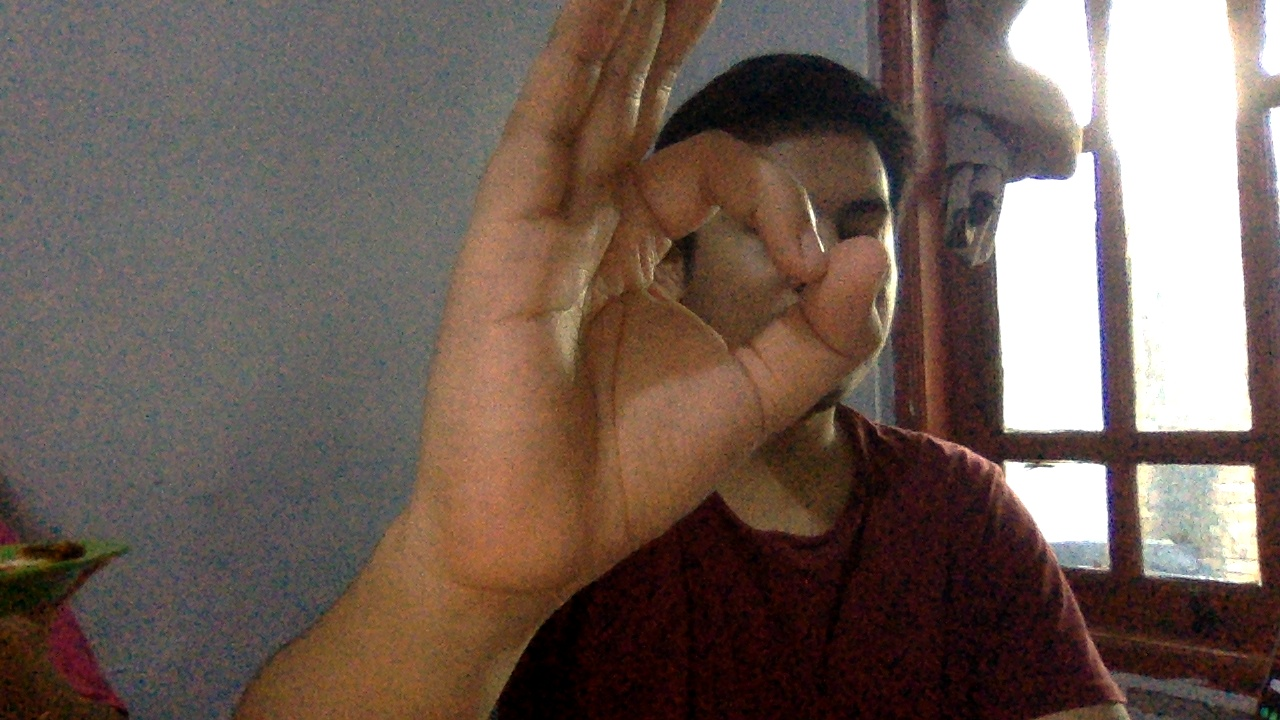thankyou: (391, 1, 919, 611)
